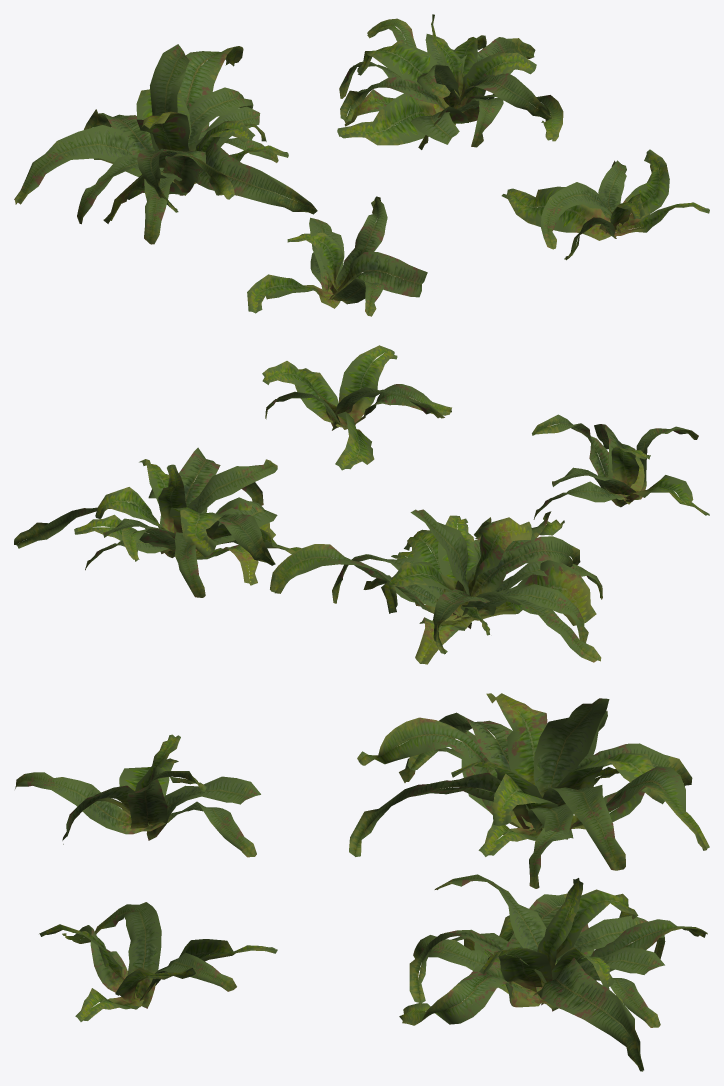
Rendered from fern.glb.
The picture shows the model from 3 angles, top to bottom: view 1: azimuth 30°, elevation 25°; view 2: azimuth 150°, elevation 25°; view 3: azimuth 270°, elevation 25°; orthographic projection. The views are drawn at different scales.
Parts seen in each view (by area): view 1: fern; view 2: fern; view 3: fern.
Boxes of the visible parts, x1,y1,x2,y2 form: fern: [14, 14, 709, 316]; fern: [14, 345, 709, 664]; fern: [15, 693, 709, 1071].
Bounding box in the file's own units: 1.97 × 0.4277 × 1.72.
Materials: 1 (1 with a texture image).
